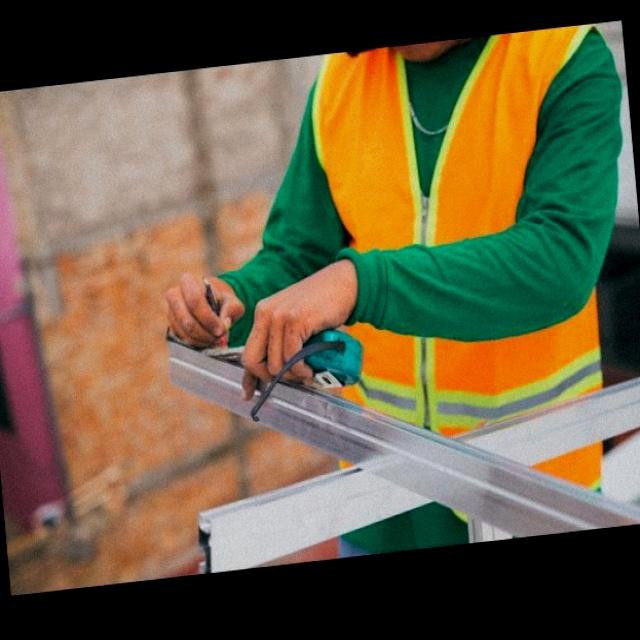safety_vest: (314, 41, 616, 493)
